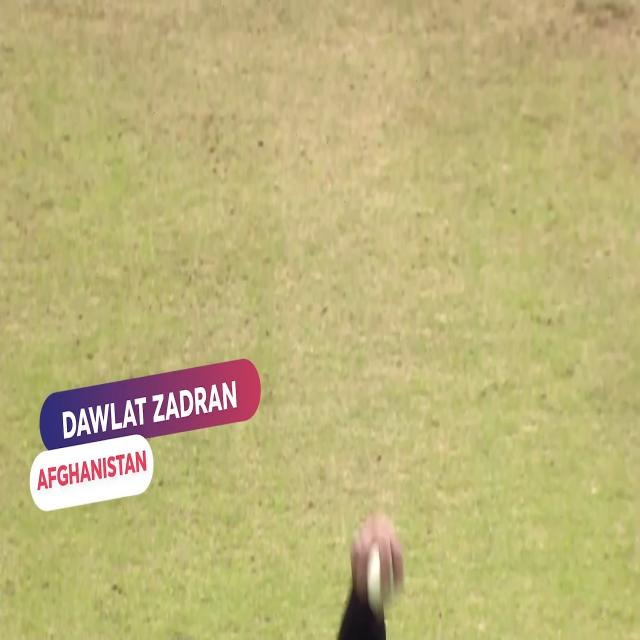ball: (362, 540, 411, 610)
